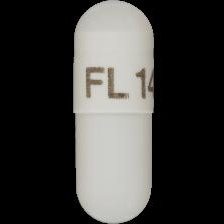55700-409: (0, 0, 224, 224)
